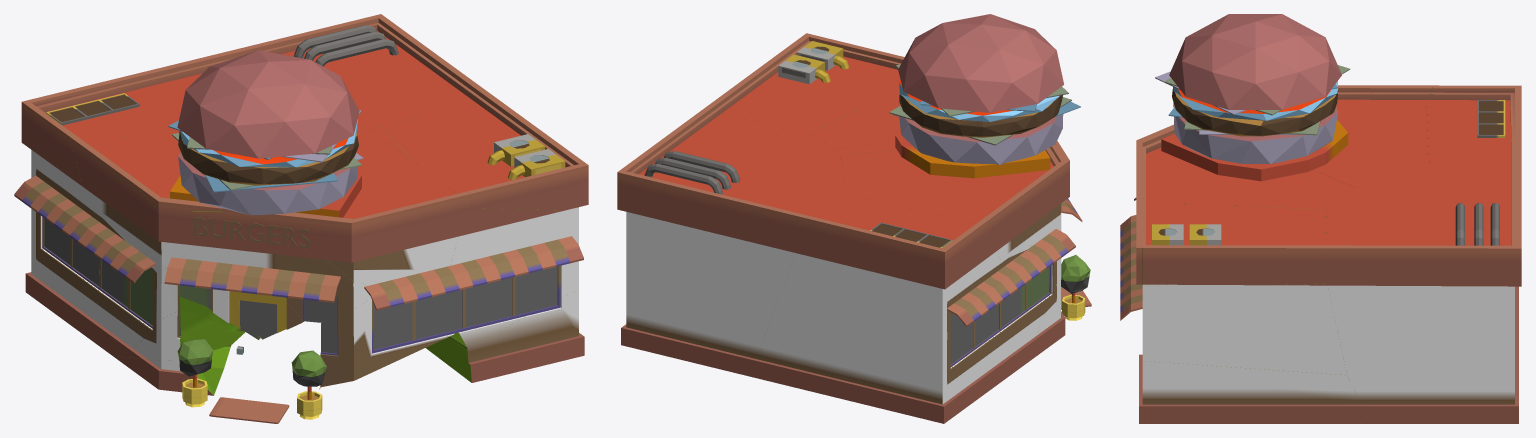
Rendered from burgers_cell.fbx.
3 renders of one model, left to right at view 1: azimuth 30°, elevation 25°; view 2: azimuth 150°, elevation 25°; view 3: azimuth 270°, elevation 25°, orthographic. The views are drawn at different scales.
Parts seen in each view (by area): view 1: Burgers_cell.007, Burgers_cell.003, polySurface4, Burgers_cell.005, Burgers_cell.010, Burgers_cell.014, Burgers_cell.001, Burgers_cell, Burgers_cell.012, Burgers_cell.016, polySurface19, polySurface21 (+25 smaller); view 2: Burgers_cell.007, Burgers_cell.014, polySurface4, Burgers_cell.010, Burgers_cell.005, polySurface5, Burgers_cell.016, polySurface20, Burgers_cell.003, polySurface8, polySurface22, polySurface9 (+12 smaller); view 3: Burgers_cell.014, Burgers_cell.001, Burgers_cell.005, polySurface4, Burgers_cell.012, Burgers_cell.010, Burgers_cell.003, Burgers_cell.007, polySurface5, polySurface22, polySurface8, polySurface19 (+9 smaller).
Part boxes in pixels (left/top/right/bottom): Burgers_cell.007: left=21, top=64, right=191, bottom=340; Burgers_cell.003: left=265, top=129, right=471, bottom=285; polySurface4: left=177, top=50, right=359, bottom=158; Burgers_cell.005: left=383, top=90, right=584, bottom=210; Burgers_cell.010: left=69, top=125, right=243, bottom=271; Burgers_cell.014: left=174, top=14, right=485, bottom=129; Burgers_cell.001: left=370, top=126, right=578, bottom=347; Burgers_cell: left=319, top=293, right=457, bottom=389; Burgers_cell.012: left=425, top=289, right=584, bottom=382; Burgers_cell.016: left=92, top=211, right=235, bottom=356; polySurface19: left=364, top=236, right=583, bottom=310; polySurface21: left=164, top=257, right=340, bottom=302; Burgers_cell.007: left=748, top=193, right=1004, bottom=423; Burgers_cell.014: left=617, top=102, right=845, bottom=376; polySurface4: left=898, top=14, right=1063, bottom=112; Burgers_cell.010: left=842, top=147, right=1069, bottom=260; Burgers_cell.005: left=713, top=34, right=904, bottom=134; polySurface5: left=899, top=114, right=1063, bottom=164; Burgers_cell.016: left=998, top=230, right=1061, bottom=378; polySurface20: left=947, top=229, right=1075, bottom=326; Burgers_cell.003: left=819, top=79, right=900, bottom=149; polySurface8: left=899, top=94, right=1062, bottom=137; polySurface22: left=895, top=117, right=1050, bottom=178; polySurface9: left=899, top=80, right=1059, bottom=121; Burgers_cell.014: left=1326, top=154, right=1521, bottom=423; Burgers_cell.001: left=1142, top=205, right=1346, bottom=375; Burgers_cell.005: left=1136, top=194, right=1327, bottom=285; polySurface4: left=1169, top=14, right=1341, bottom=109; Burgers_cell.012: left=1139, top=354, right=1369, bottom=423; Burgers_cell.010: left=1324, top=85, right=1432, bottom=183; Burgers_cell.003: left=1136, top=124, right=1344, bottom=205; Burgers_cell.007: left=1426, top=85, right=1521, bottom=340; polySurface5: left=1173, top=102, right=1338, bottom=163; polySurface22: left=1161, top=119, right=1348, bottom=181; polySurface8: left=1172, top=87, right=1338, bottom=136; polySurface19: left=1120, top=215, right=1142, bottom=320.
Size of the model in its own units: 1472 by 1162 by 1469.
